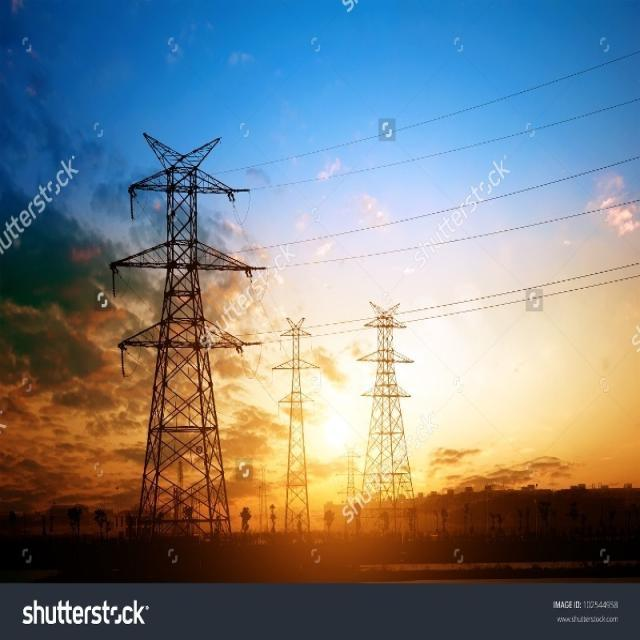non-critical vegetation: (113, 124, 250, 542), (348, 300, 427, 518), (262, 302, 320, 537)
